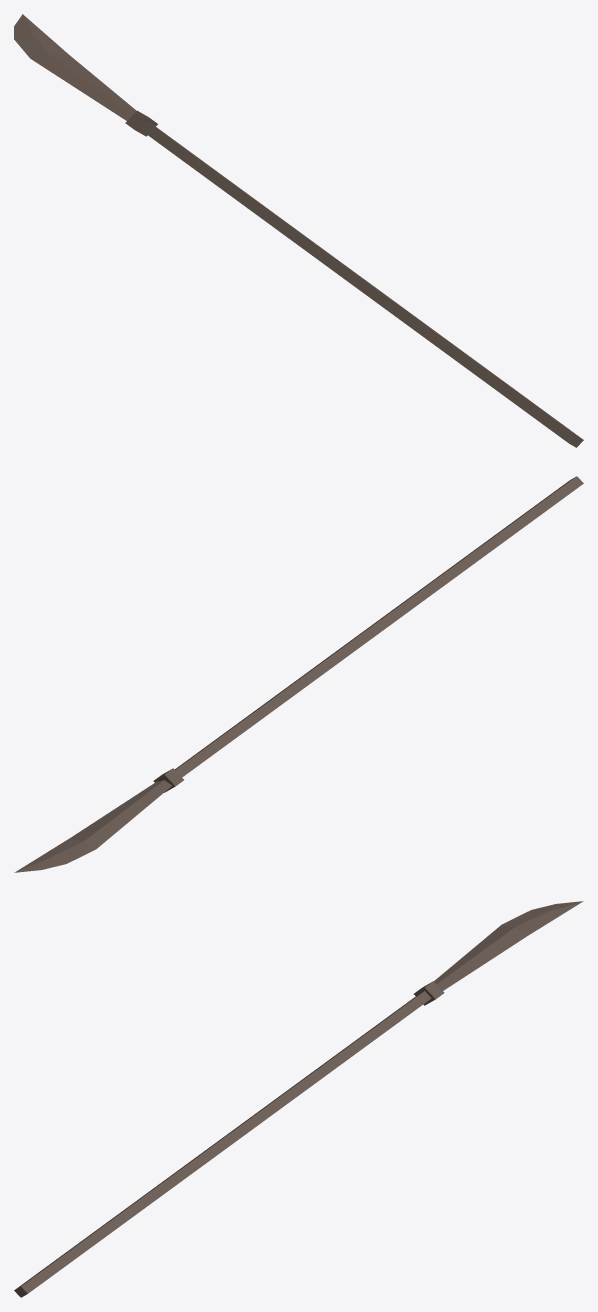
Rendered from Spear1.fbx.glb.
3 views of the same model, one above another, from view 1: azimuth 30°, elevation 25°; view 2: azimuth 150°, elevation 25°; view 3: azimuth 330°, elevation 25° (orthographic). The views are drawn at different scales.
Visible parts, largest first — view 1: Spear1.1; view 2: Spear1.1; view 3: Spear1.1.
Boxes of the visible parts, <box> form: Spear1.1: <box>14,14,583,447</box>; Spear1.1: <box>14,476,583,872</box>; Spear1.1: <box>14,901,583,1297</box>.
Bounding box in the file's own units: 6.59 × 3.06 × 164.
